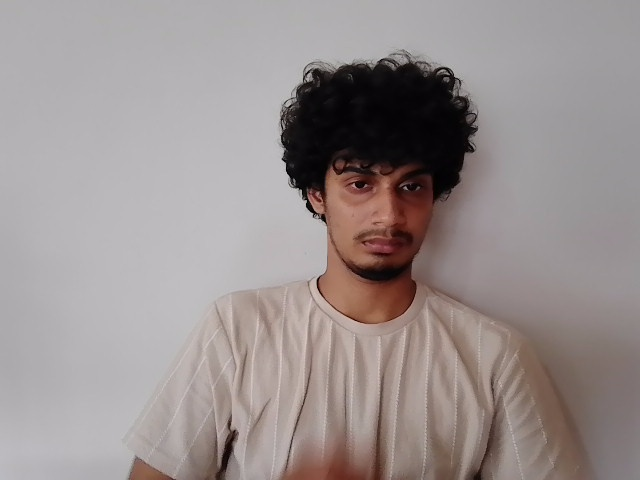sorry: (278, 445, 377, 480)
